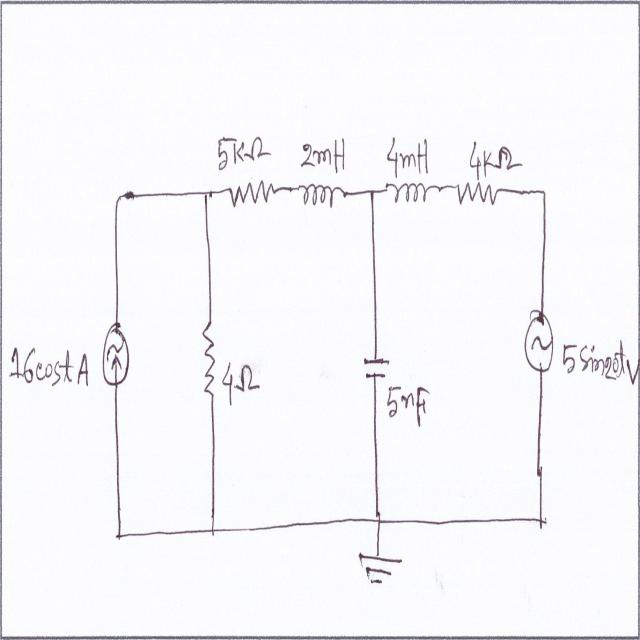ac_current: (523, 306, 557, 374)
capacitor: (360, 350, 391, 388)
current_source: (98, 312, 132, 393)
ground: (357, 543, 405, 590)
inductor: (296, 172, 348, 218), (386, 173, 435, 212)
resistor: (226, 173, 276, 217), (456, 167, 500, 216), (199, 315, 218, 401)
